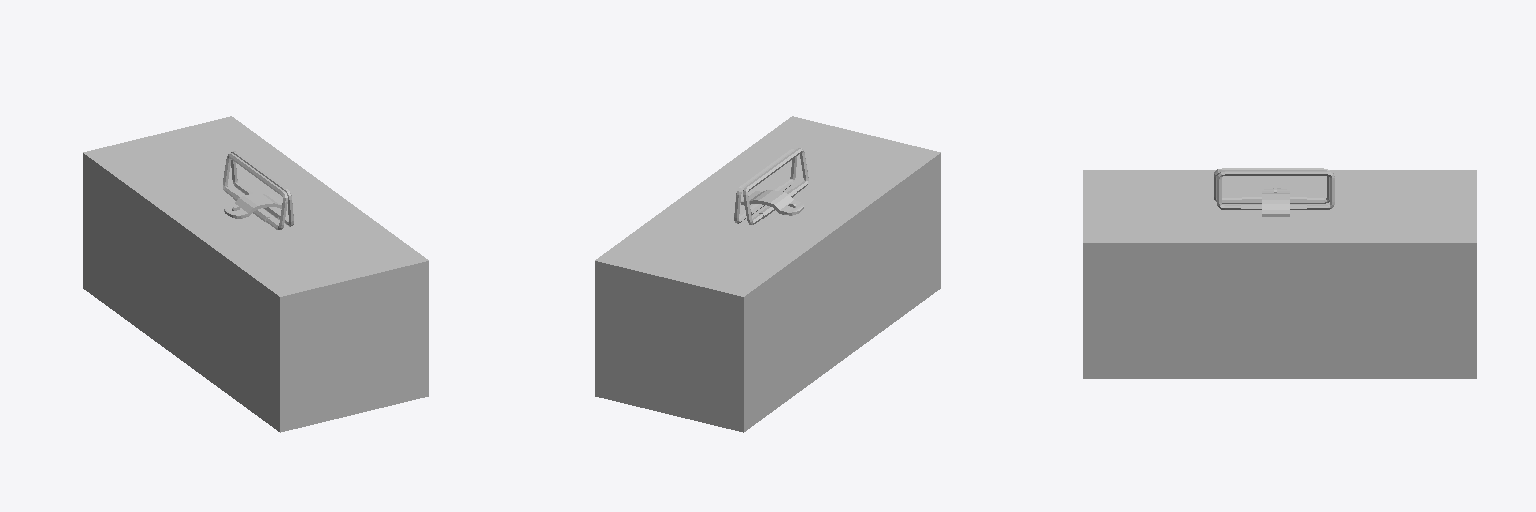
Rendered from Tool box close.obj.
3 views of the same model, side by side, from view 1: azimuth 30°, elevation 25°; view 2: azimuth 150°, elevation 25°; view 3: azimuth 270°, elevation 25° (orthographic).
Parts seen in each view (by area): view 1: Tool_box_close_low; view 2: Tool_box_close_low; view 3: Tool_box_close_low.
Part boxes in pixels (bbox=[...]): Tool_box_close_low: bbox=[83, 116, 428, 432]; Tool_box_close_low: bbox=[595, 116, 940, 432]; Tool_box_close_low: bbox=[1083, 168, 1476, 378].
Bounding box in the file's own units: 22.21 × 24.55 × 50.92.